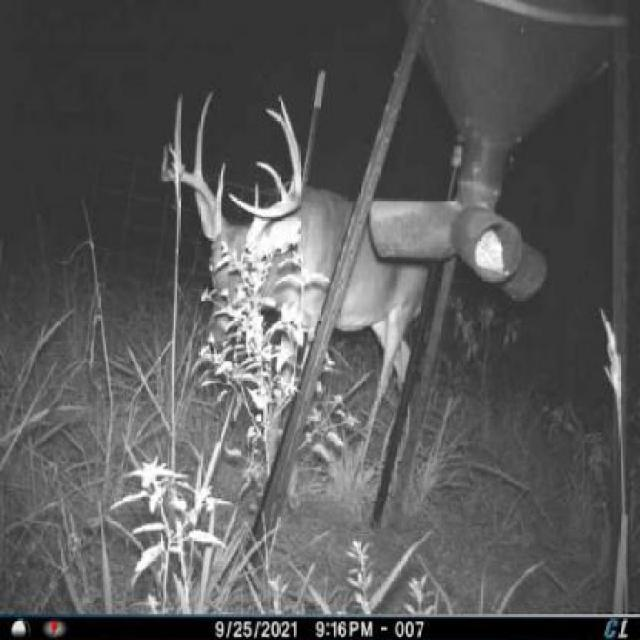Deer: (152, 80, 436, 489)
